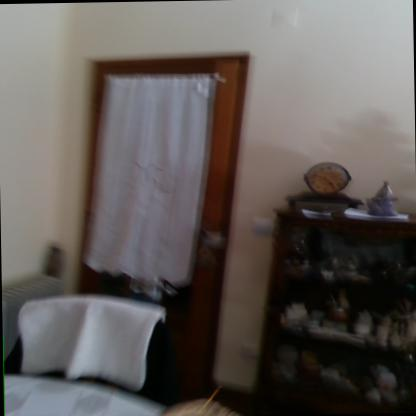closed: (64, 46, 251, 402)
